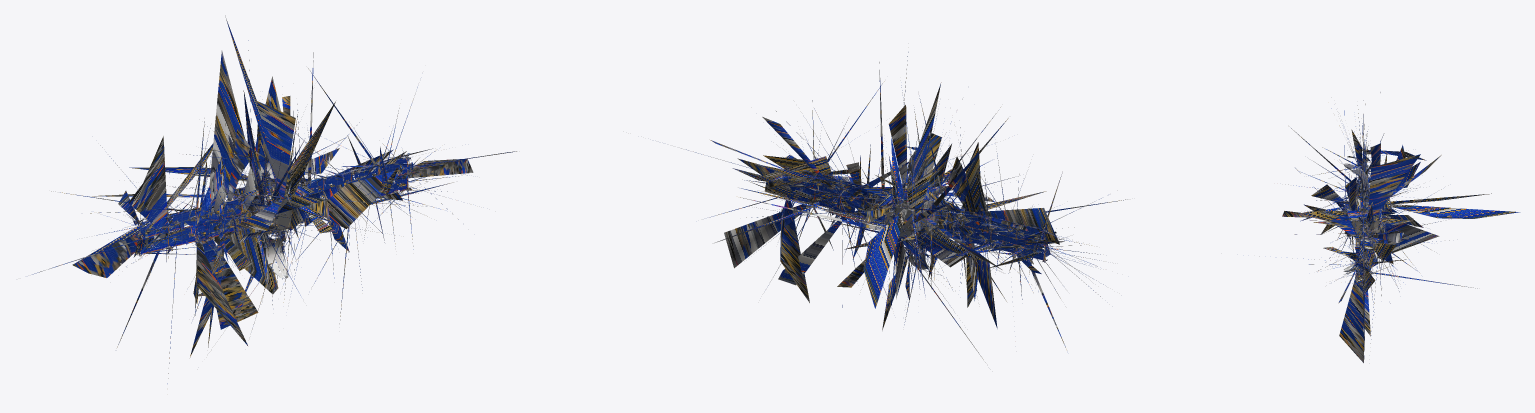
Rendered from solar_satellite-v1.glb.
3 renders of one model, left to right at view 1: azimuth 30°, elevation 25°; view 2: azimuth 150°, elevation 25°; view 3: azimuth 270°, elevation 25°, orthographic. The views are drawn at different scales.
Visible parts, largest first — view 1: tripo_node_45d77255-8681-477f-b656-15046fe1d42a; view 2: tripo_node_45d77255-8681-477f-b656-15046fe1d42a; view 3: tripo_node_45d77255-8681-477f-b656-15046fe1d42a.
Part boxes in pixels (x1,y1,x2,y2): tripo_node_45d77255-8681-477f-b656-15046fe1d42a: (32, 15, 516, 383); tripo_node_45d77255-8681-477f-b656-15046fe1d42a: (681, 52, 1127, 362); tripo_node_45d77255-8681-477f-b656-15046fe1d42a: (1259, 92, 1520, 362).
Size of the model in its own units: 2.09 by 1.34 by 1.23.
1 material, 1 textured.
